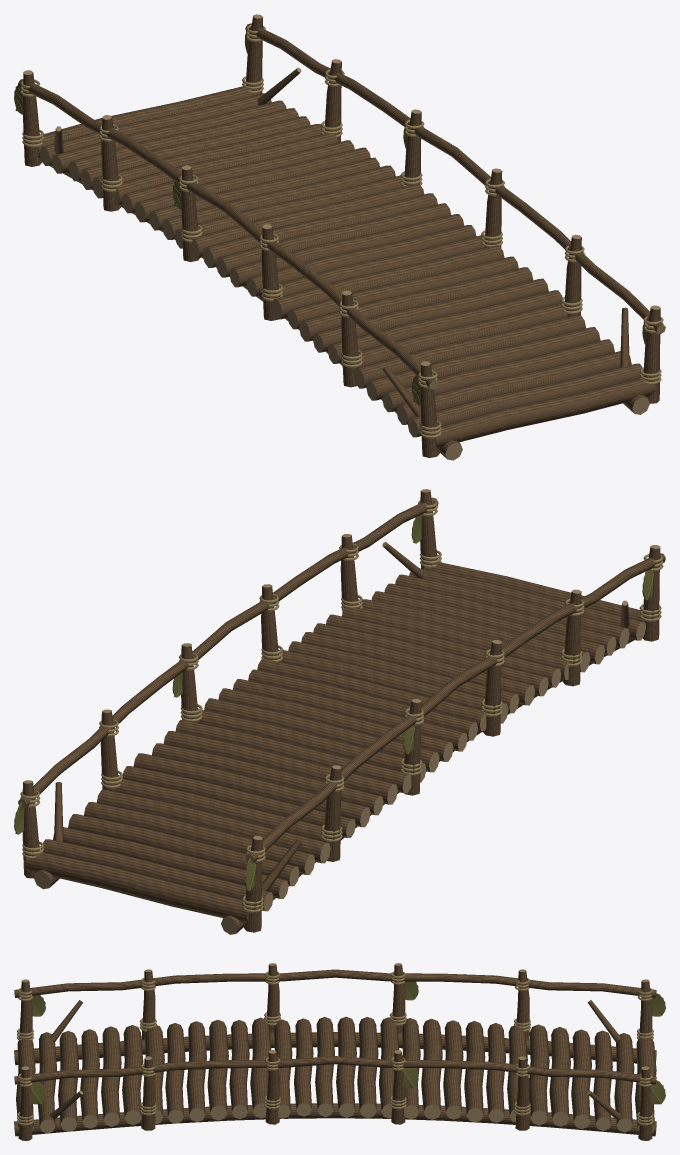
3 views of the same model, one above another, from view 1: azimuth 30°, elevation 25°; view 2: azimuth 150°, elevation 25°; view 3: azimuth 270°, elevation 25° (orthographic). The views are drawn at different scales.
Visible parts, largest first — view 1: Crosswise split twig 00; view 2: Crosswise split twig 00; view 3: Crosswise split twig 00.
Boxes of the visible parts, x1=… form: Crosswise split twig 00: x1=14, y1=14, x2=665, y2=460; Crosswise split twig 00: x1=14, y1=489, x2=665, y2=934; Crosswise split twig 00: x1=14, y1=963, x2=665, y2=1140.
Bounding box in the file's own units: 8.25 × 3.83 × 24.4.
4 materials, 1 textured.
